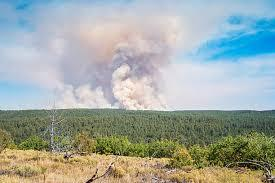yanwu: (13, 1, 206, 110)
